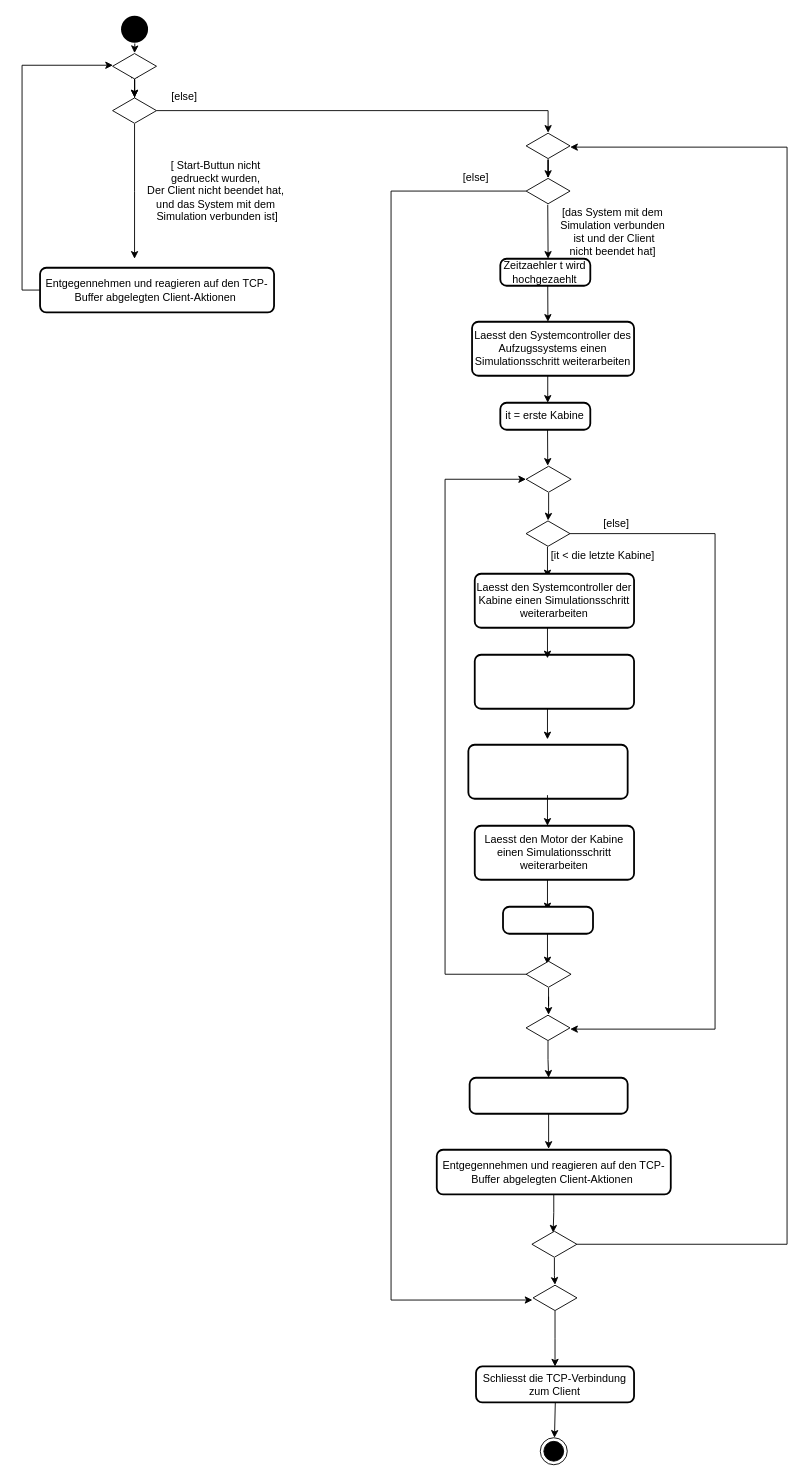
Some shapes in this 810 by 1481 pixel diagram are drawn without their labels. The shapes that lost their labels are listed below. From the top down, each one's centre as x and y in pixels, then its label:
point (553, 681): Laesst den Timer der Kabine einen Simulationsschritt weiterarbeiten
point (547, 771): Laesst den Hoehensensor der Kabine einen Simulationsschritt weiterarbeiten
point (547, 919): die Kabine it inkrementiert
point (548, 1095): Senden dem Client den aktuellen Zustand des Aufzugsystems
